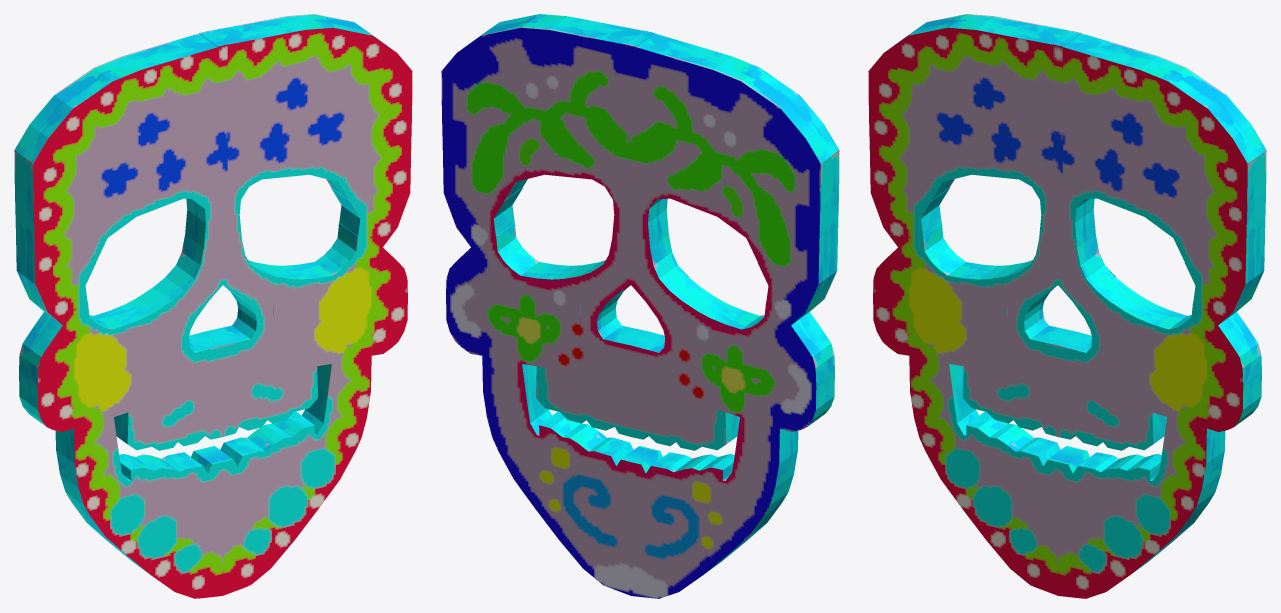
File: calacaEsc.obj
3 views of the same model, side by side, from view 1: azimuth 30°, elevation 25°; view 2: azimuth 150°, elevation 25°; view 3: azimuth 330°, elevation 25° (orthographic).
Parts seen in each view (by area): view 1: Plane; view 2: Plane; view 3: Plane.
Boxes of the visible parts, bbox=[...] form: Plane: bbox=[14, 14, 412, 598]; Plane: bbox=[441, 14, 839, 598]; Plane: bbox=[868, 14, 1266, 598].
Bounding box in the file's own units: 4.91 × 6.81 × 0.4206.
1 material, 1 textured.
